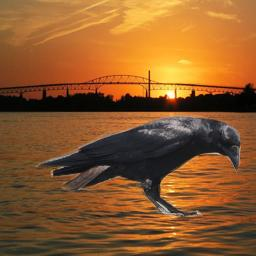Crow: (35, 115, 241, 217)
